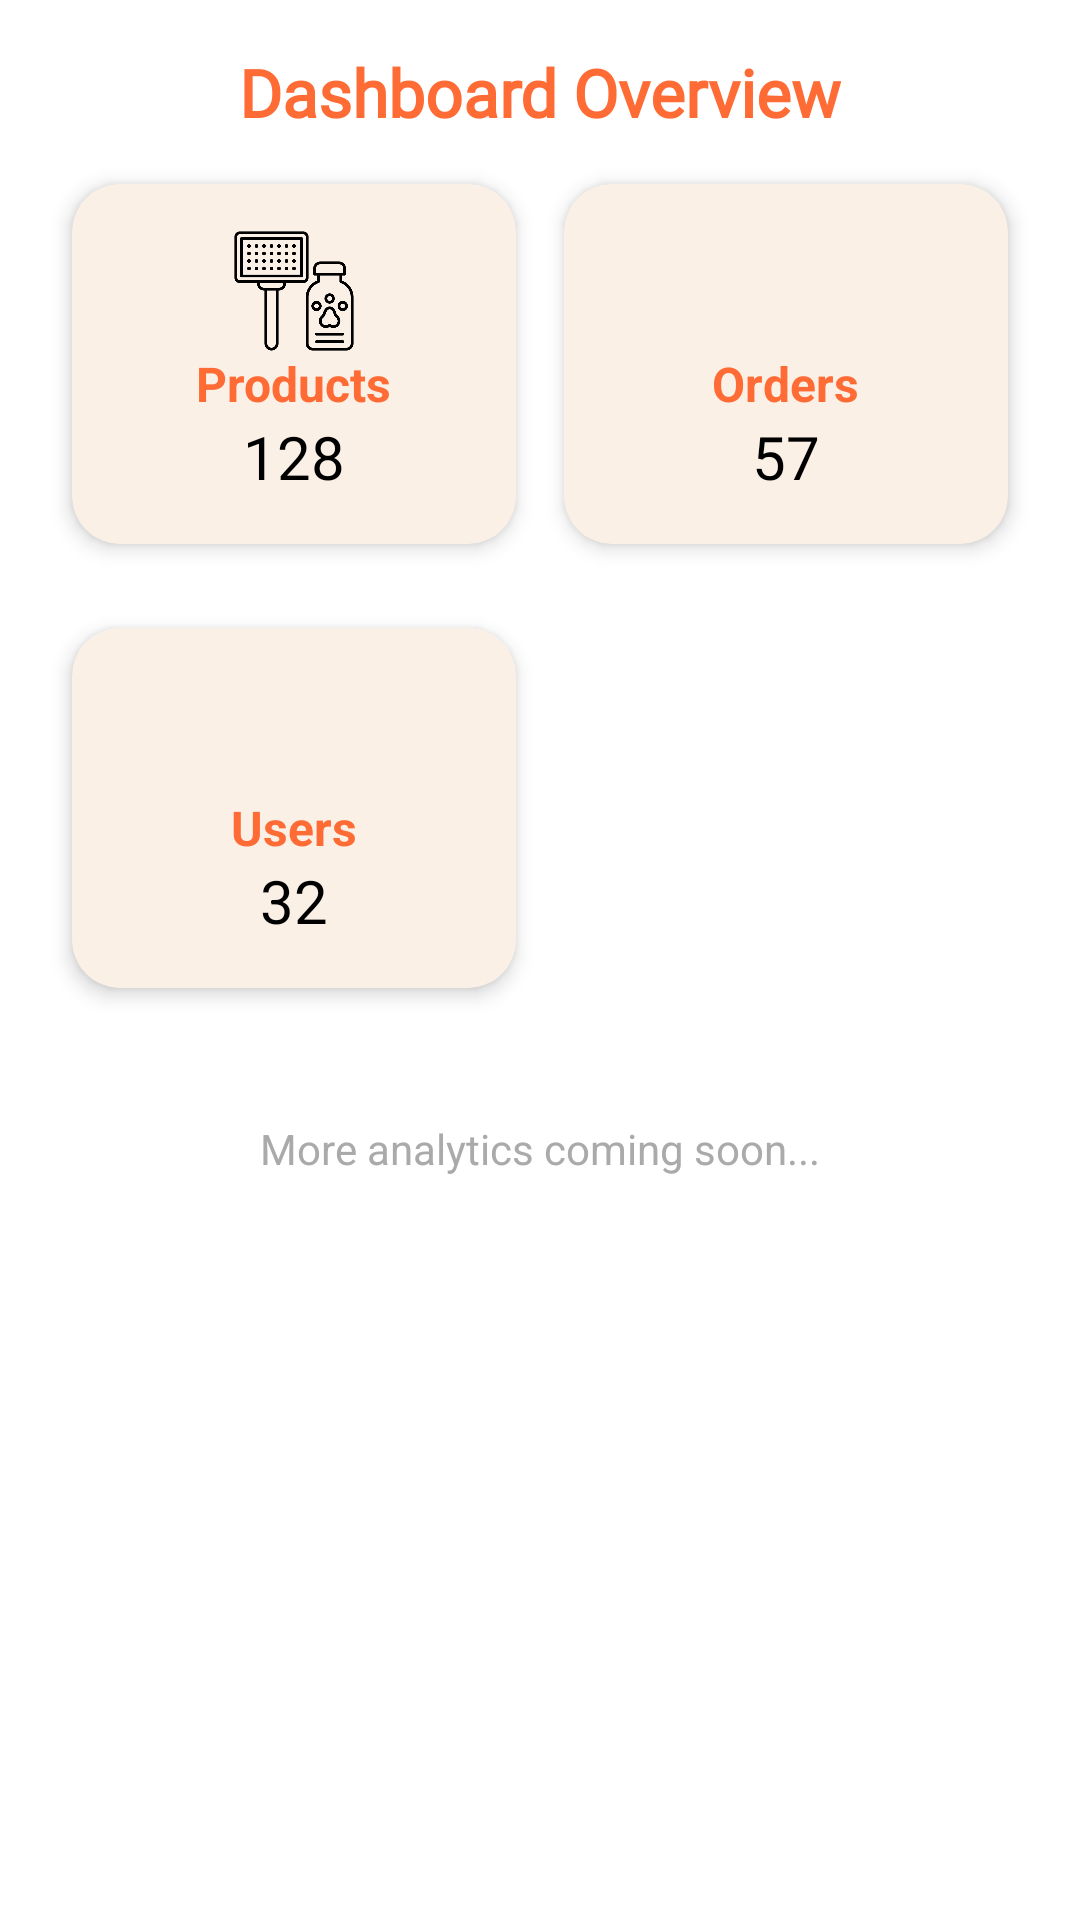

Point at icon controls on the screen. Image size 1080×1920, points as [x,y].
pet tool: [294,291]
